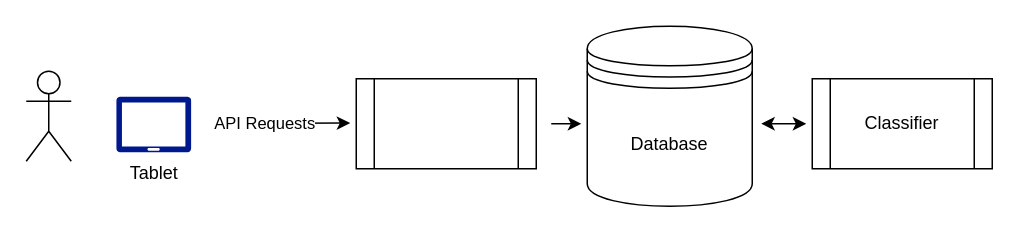
This 1019x233 diagram has some shape labels left out. Here are the shapes that lost their labels. From the top down, the centre of each, then its label:
point 48,115: User
point 445,123: Classification Server
